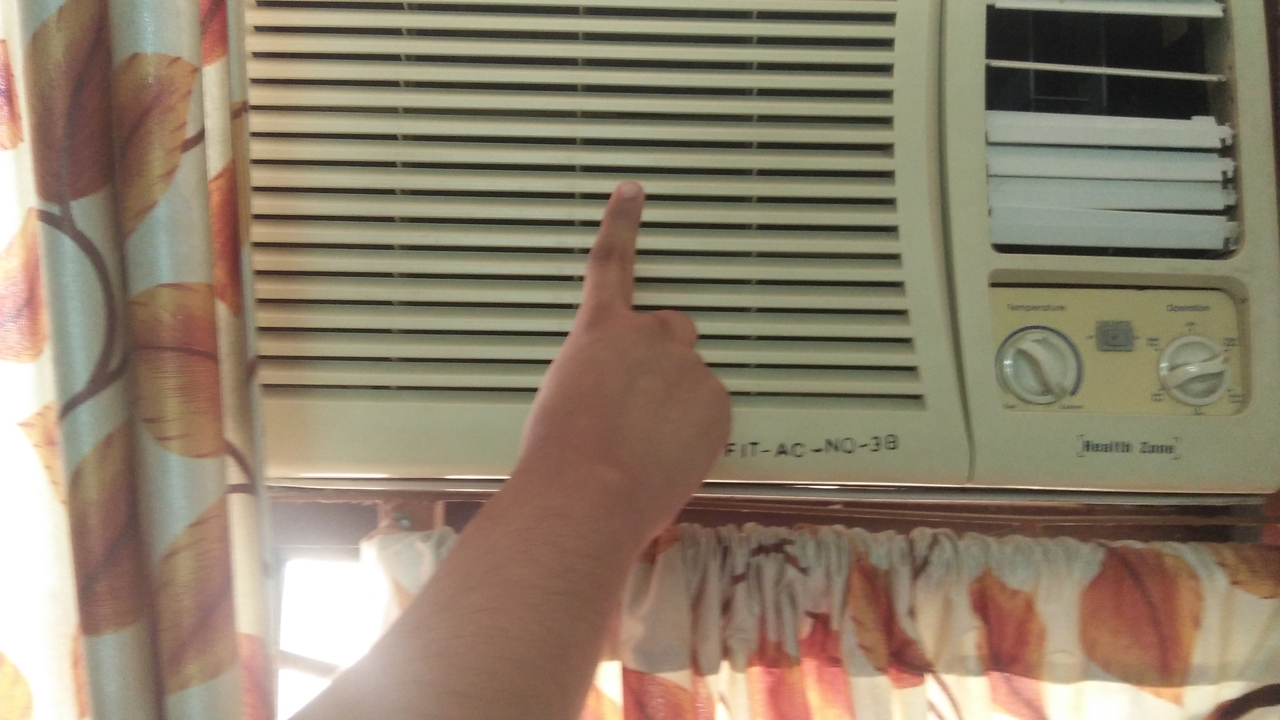fingertip: (596, 166, 652, 218)
